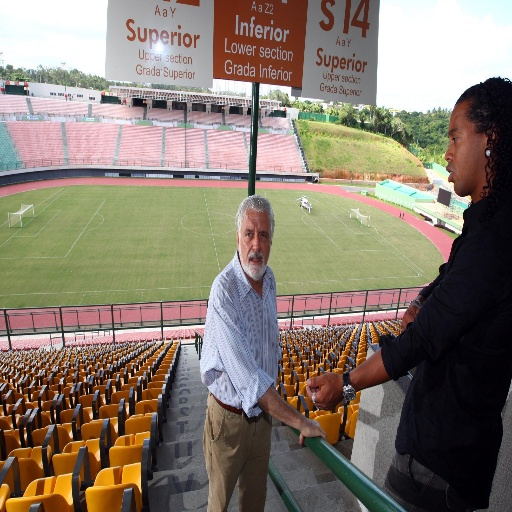hand: (305, 370, 342, 409), (299, 416, 328, 448)
